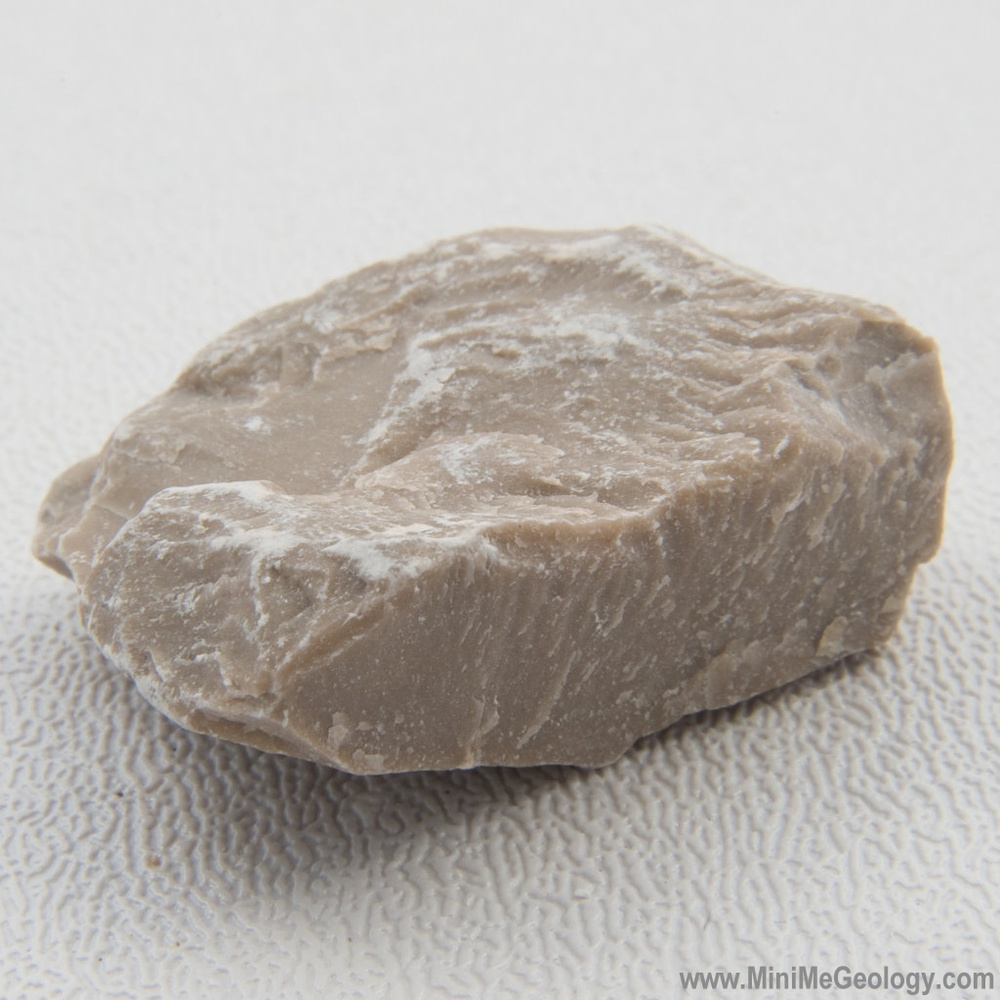obstacle: (34, 228, 951, 773)
